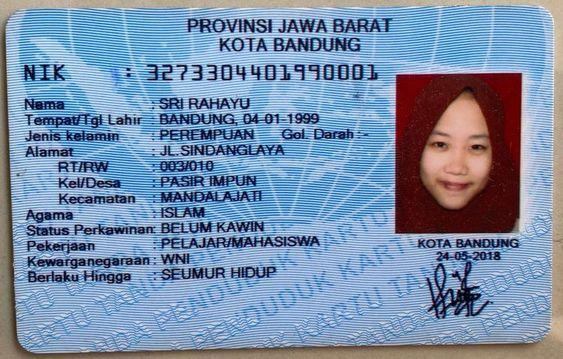ID-card: (5, 11, 545, 344)
